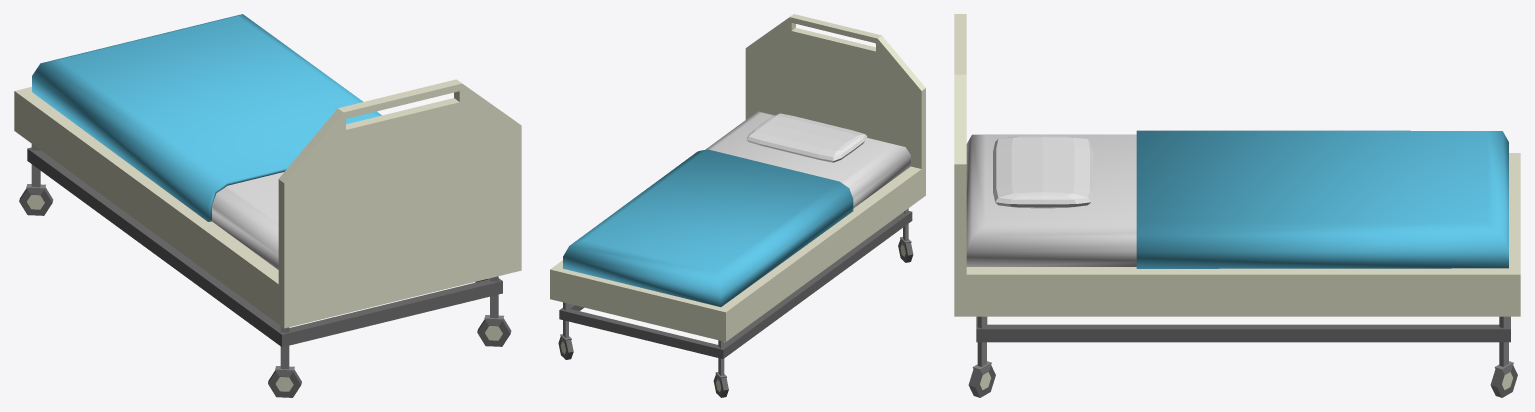
Rendered from bed02-hospital.fbx.
The picture shows the model from 3 angles, left to right: view 1: azimuth 30°, elevation 25°; view 2: azimuth 150°, elevation 25°; view 3: azimuth 270°, elevation 25°; orthographic projection. The views are drawn at different scales.
Parts seen in each view (by area): view 1: bed02-hospital; view 2: bed02-hospital; view 3: bed02-hospital.
Boxes of the visible parts, left/top/right/bottom form: bed02-hospital: left=14, top=14, right=521, bottom=397; bed02-hospital: left=550, top=14, right=925, bottom=397; bed02-hospital: left=954, top=14, right=1520, bottom=397.
Bounding box in the file's own units: 227 × 258 × 448.
